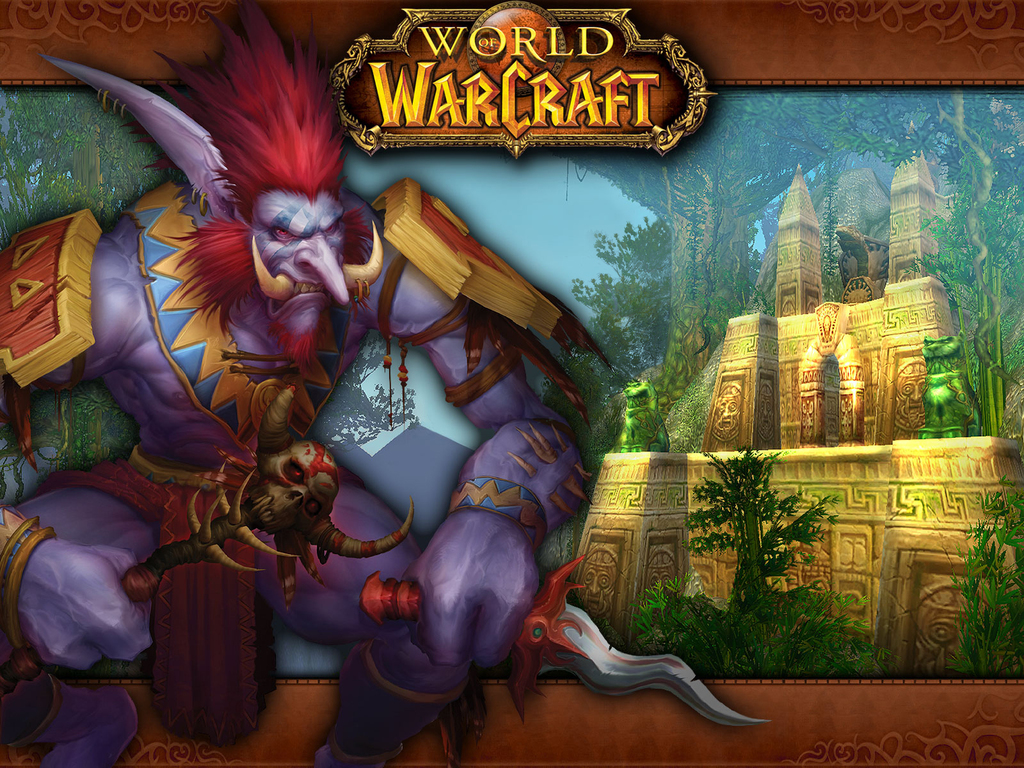Person: (0, 0, 613, 768)
